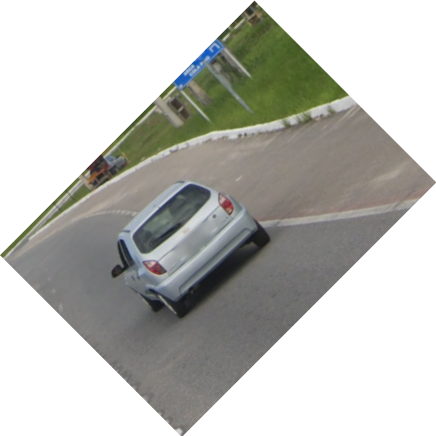car: (99, 178, 276, 333)
